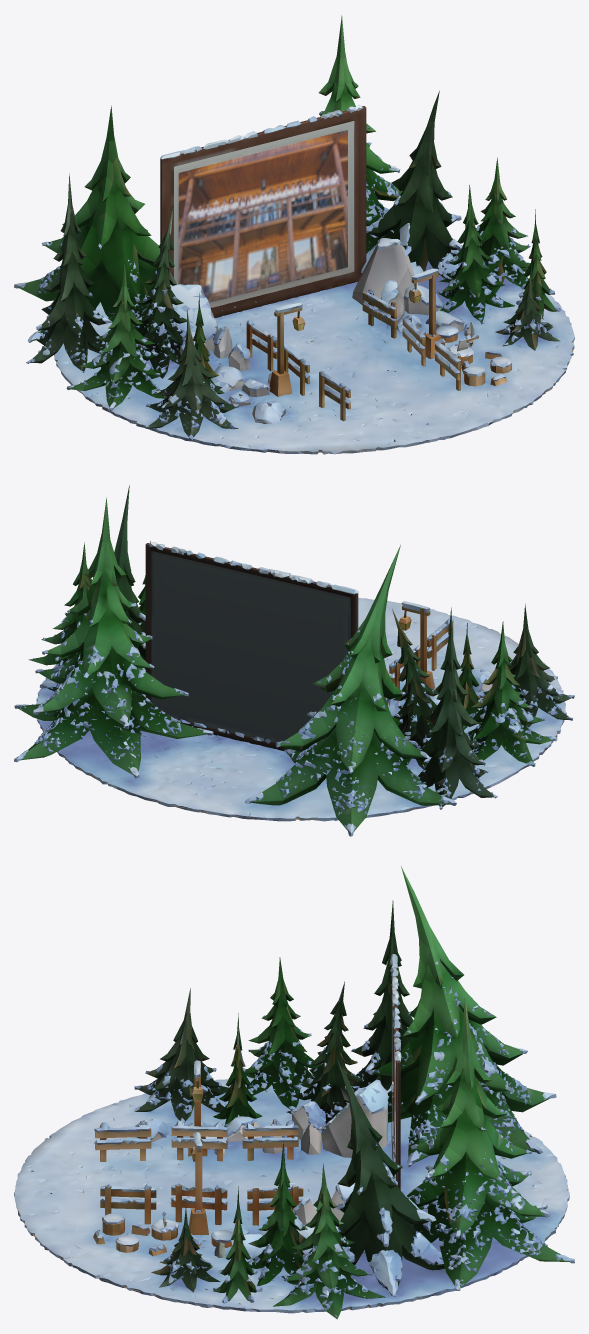
File: main_scene5-v7-transformed.glb
3 views of the same model, one above another, from view 1: azimuth 30°, elevation 25°; view 2: azimuth 150°, elevation 25°; view 3: azimuth 270°, elevation 25° (orthographic). The views are drawn at different scales.
Visible parts, largest first — view 1: Snow, objects, glass, photo, frame; view 2: objects, Snow, frame; view 3: objects, Snow, frame.
Boxes of the visible parts, x1,y1,x2,y2 form: Snow: [14, 104, 574, 454]; objects: [18, 15, 560, 437]; glass: [174, 121, 354, 307]; photo: [178, 130, 347, 302]; frame: [160, 106, 366, 317]; objects: [17, 485, 572, 831]; Snow: [14, 542, 574, 836]; frame: [145, 543, 358, 750]; objects: [93, 866, 569, 1319]; Snow: [14, 954, 574, 1317]; frame: [391, 965, 400, 1189].
Size of the model in its own units: 7.34 by 3.5 by 6.88.
Materials: 6 (6 with a texture image).
